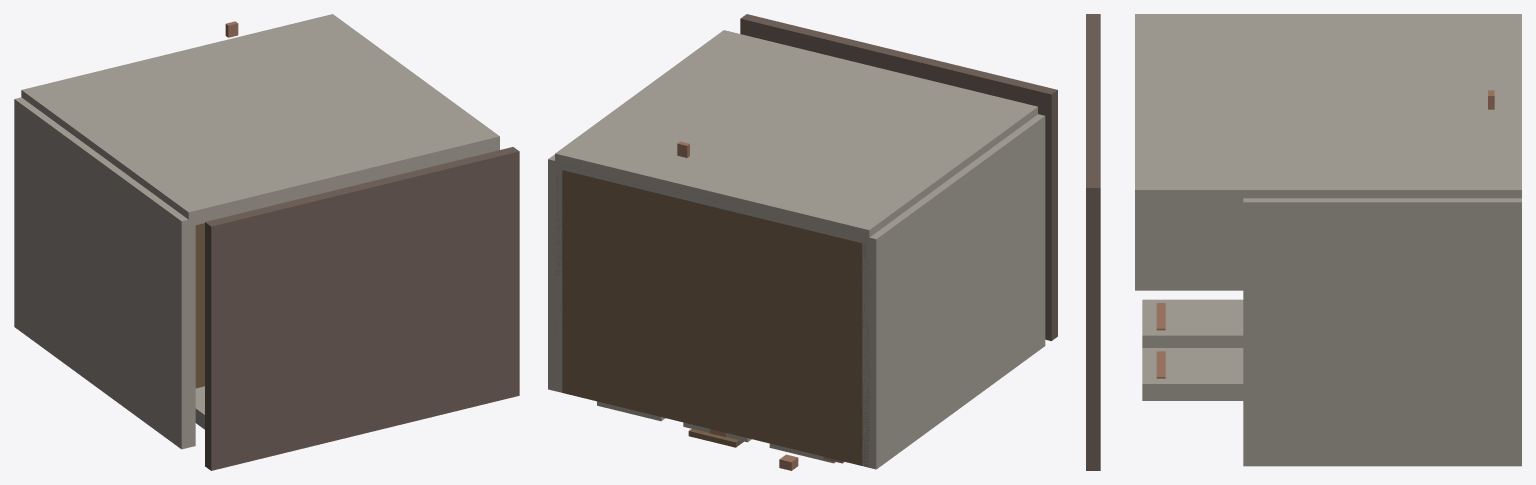
The model's file is wwii_townhouse_ruined.glb.
3 renders of one model, left to right at view 1: azimuth 30°, elevation 25°; view 2: azimuth 150°, elevation 25°; view 3: azimuth 270°, elevation 25°, orthographic. The views are drawn at different scales.
Parts seen in each view (by area): view 1: RearWall, RoofA, LeftWall, RoofB, Floor2; view 2: Floor0, RearWall, LeftWall, RoofA, RightWall, RoofB; view 3: RightWall, RearWall, LeftWall, RoofB, Facade2_0, Facade2_-1, RoofA.
Boxes of the visible parts, left/top/right/bottom form: RearWall: left=21, top=14, right=499, bottom=226; RoofA: left=205, top=181, right=382, bottom=470; LeftWall: left=14, top=97, right=195, bottom=449; RoofB: left=343, top=147, right=519, bottom=436; Floor2: left=195, top=223, right=204, bottom=388; Floor0: left=555, top=164, right=869, bottom=467; RearWall: left=555, top=30, right=1037, bottom=244; LeftWall: left=862, top=114, right=1045, bottom=469; RoofA: left=878, top=48, right=1057, bottom=340; RightWall: left=548, top=154, right=562, bottom=392; RoofB: left=740, top=14, right=919, bottom=73; RightWall: left=1243, top=198, right=1521, bottom=466; RearWall: left=1135, top=14, right=1521, bottom=206; LeftWall: left=1135, top=207, right=1243, bottom=290; RoofB: left=1086, top=91, right=1100, bottom=470; Facade2_0: left=1142, top=348, right=1243, bottom=400; Facade2_-1: left=1142, top=299, right=1243, bottom=347; RoofA: left=1086, top=14, right=1100, bottom=109.
Size of the model in its own units: 10.45 by 8.9 by 10.48.
